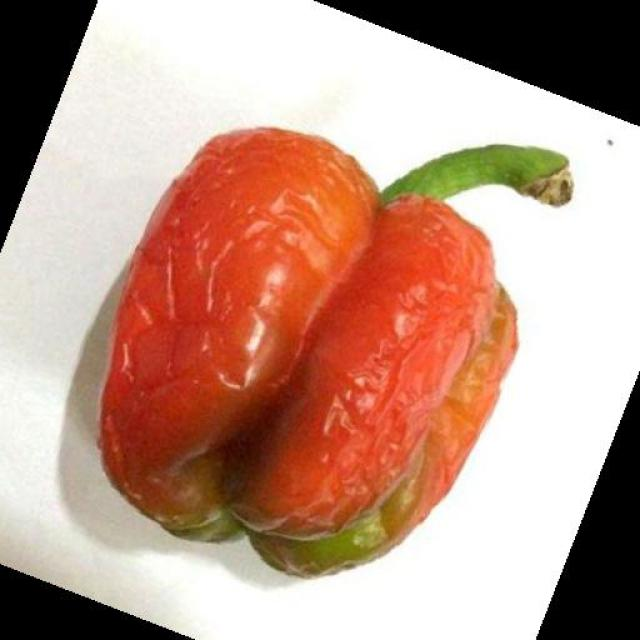Stale_Capsicum: (128, 94, 530, 564)
